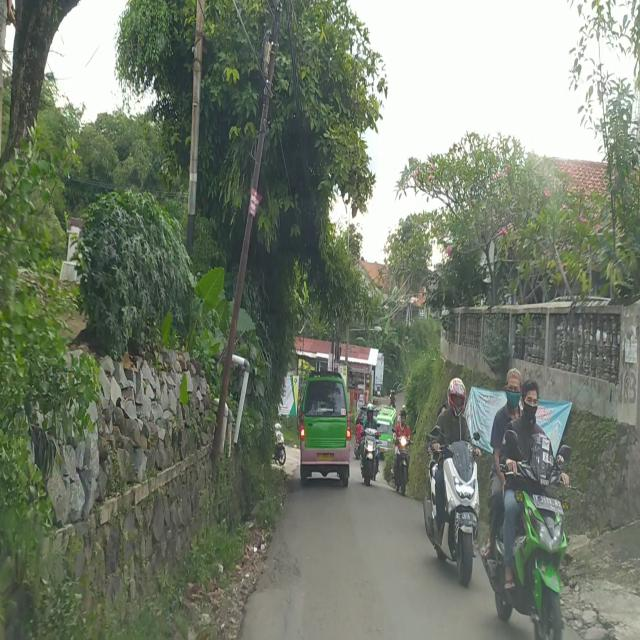Drain Hole: (261, 532, 302, 592)
